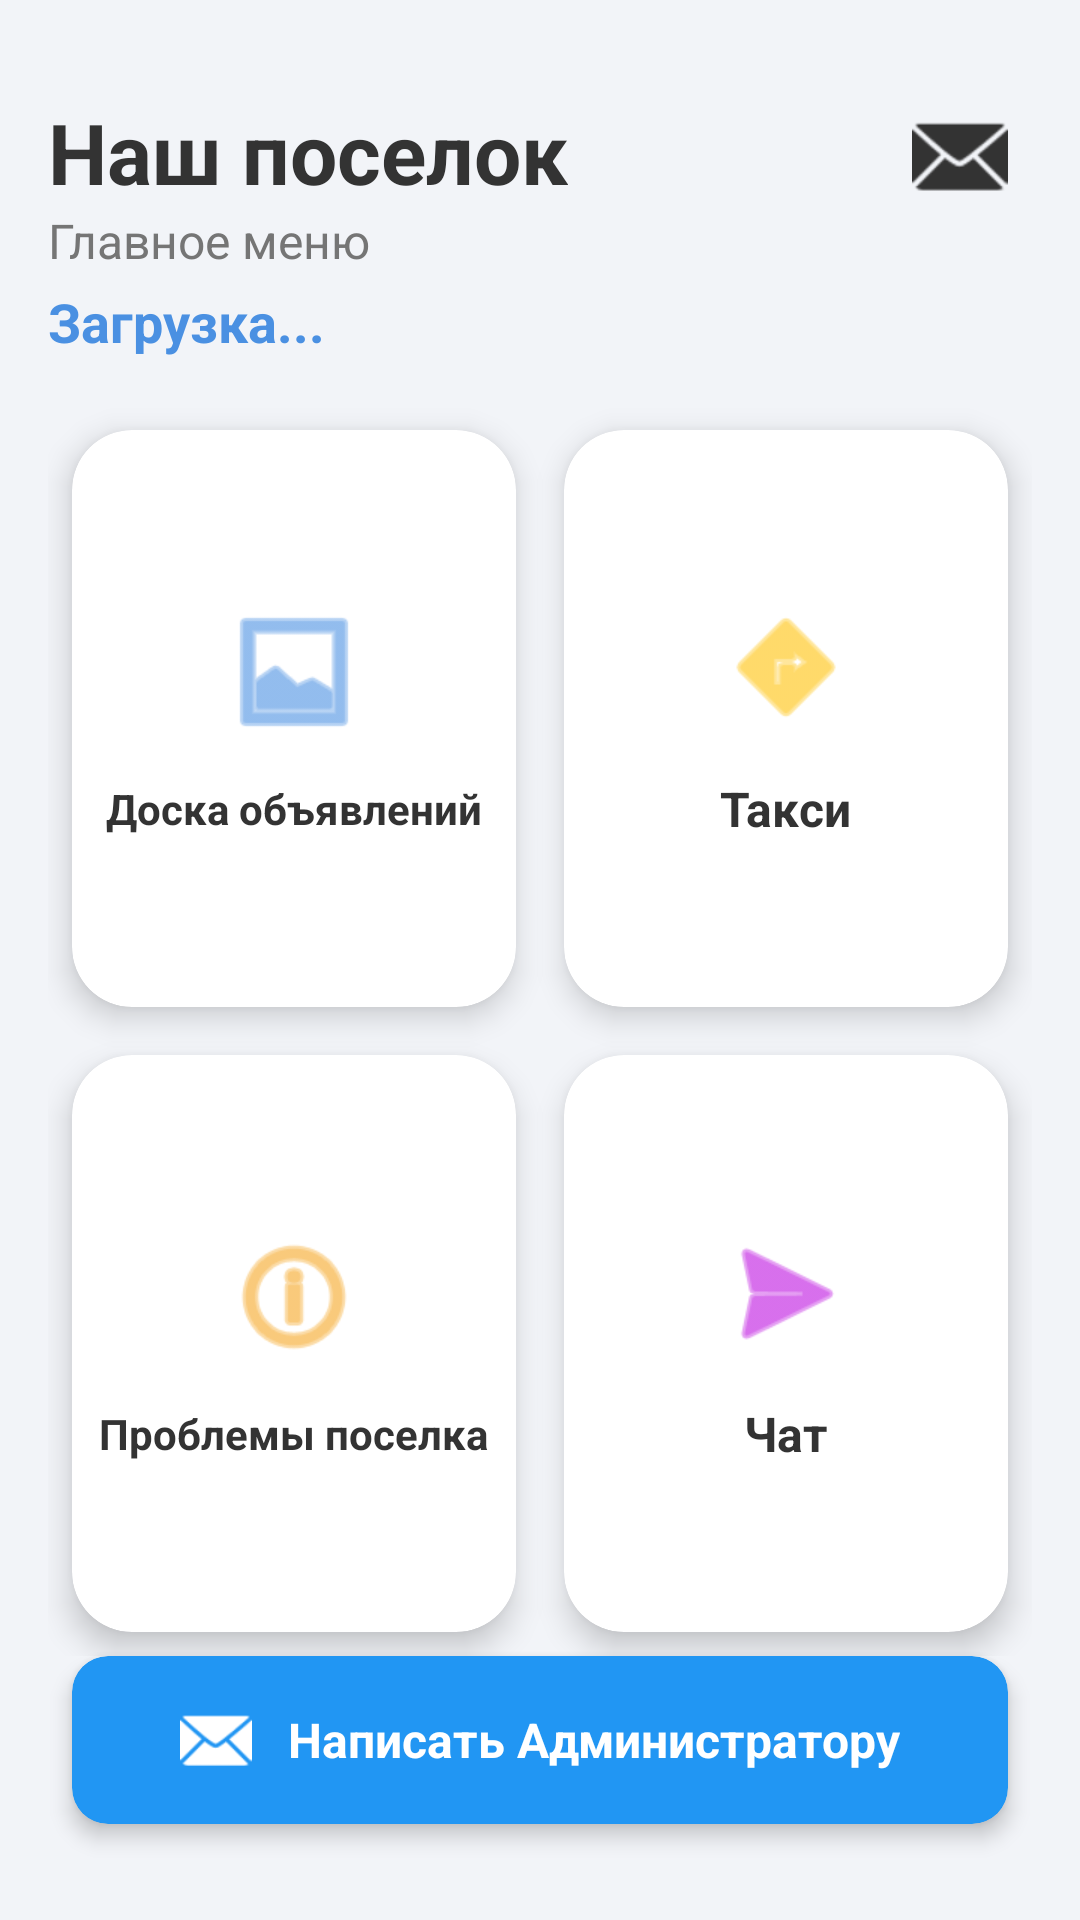

Icon click points for this 1080*1920 phone screenshot, format (x=x, y=y):
directions: (x=786, y=667)
email: (x=960, y=157), (x=216, y=1740)
gallery: (x=294, y=672)
info details: (x=294, y=1297)
send: (x=787, y=1293)
